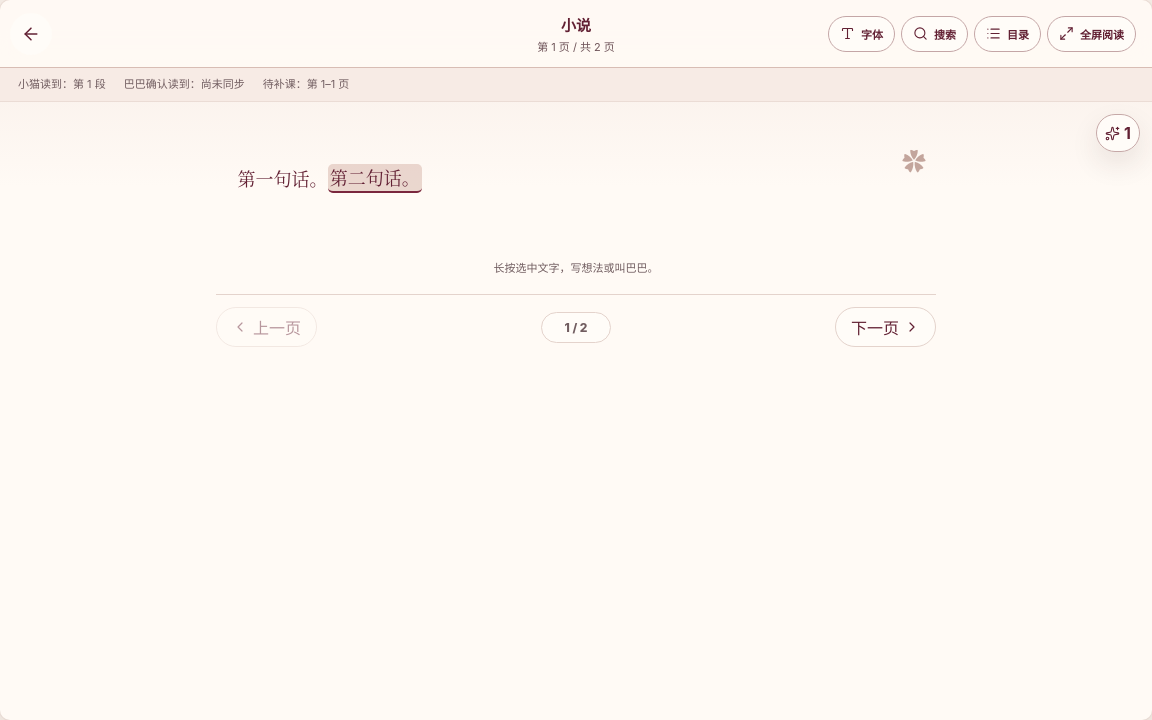
it: NovelReader › refreshes the current page thought summary after saving clear thinking
Click the button "第二句话。".
click(375, 179)  # box [328,164,422,193]
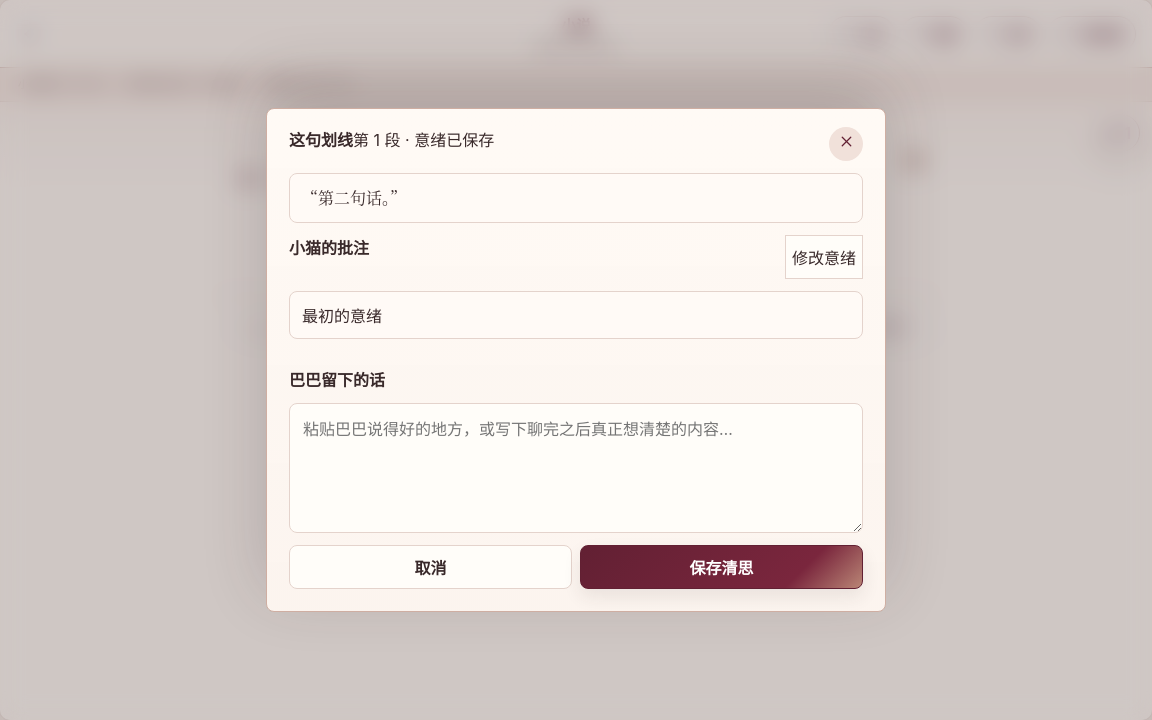
Type "聊完之后，我知道这里是在说反馈。" into the text box with placeholder "粘贴巴巴说得好的地方，或写下聊完之后真正想清楚的内容…".
click(576, 468); type("聊完之后，我知道这里是在说反馈。")  # box [289,403,863,533]
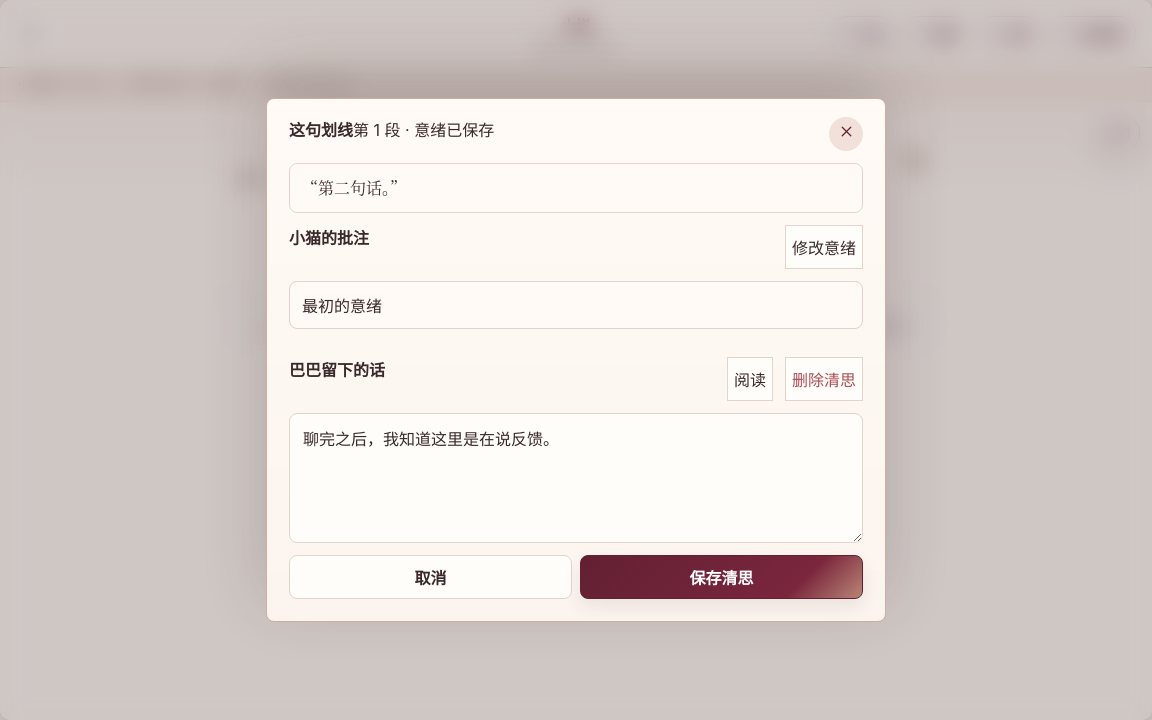
Click the button "保存清思".
click(722, 577)  # box [580,555,863,599]
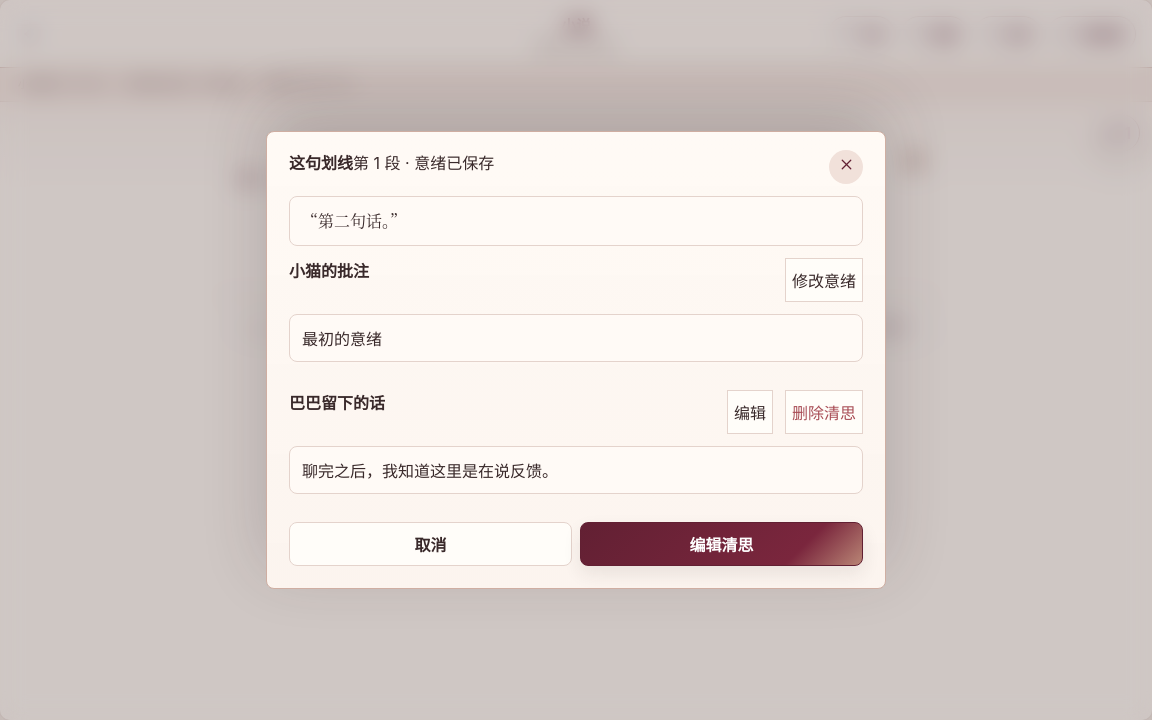
Click the button named "关闭划线清思".
click(846, 167)  # box [829,150,863,184]
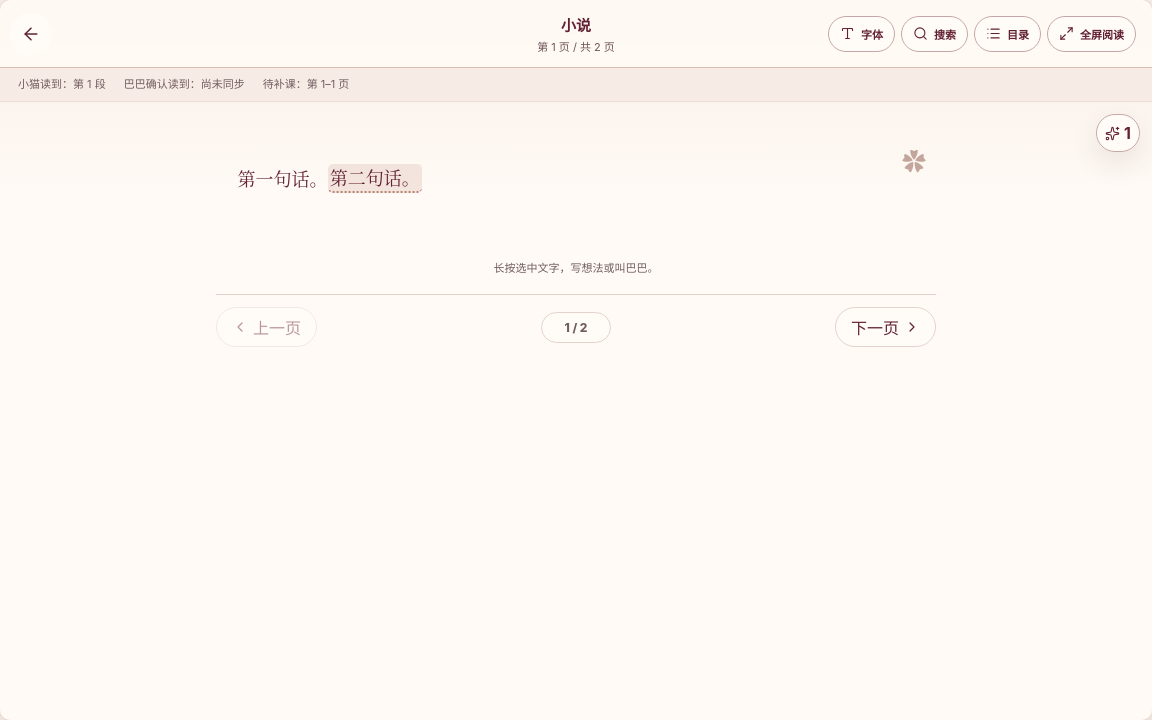
Click the button named "本页想法".
click(1118, 133)  # box [1096,114,1140,152]
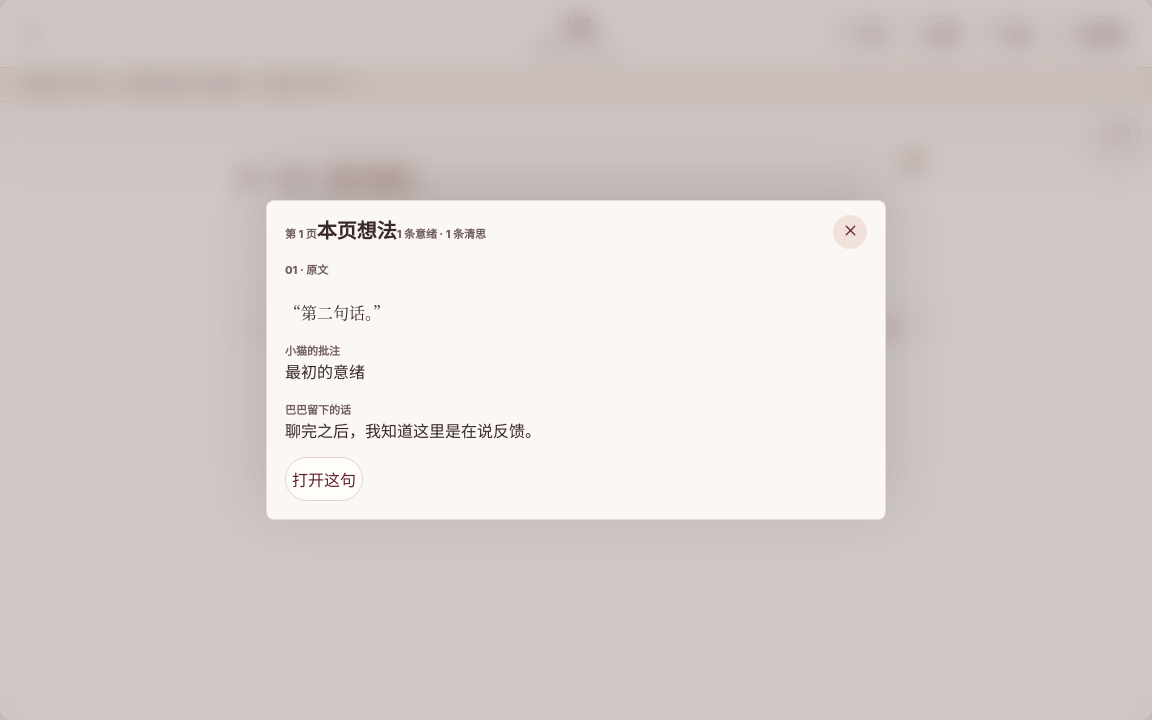
Expected: the text "聊完之后，我知道这里是在说反馈。" is shown, [285,421,541,441]
